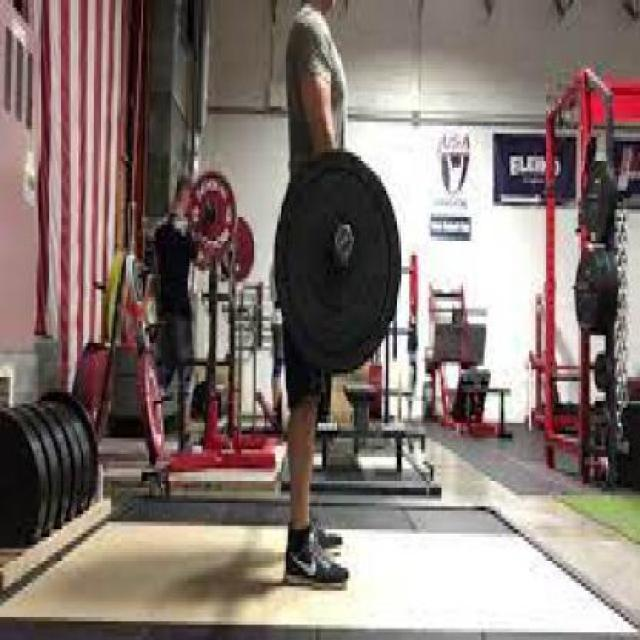barbell: (269, 142, 416, 391)
